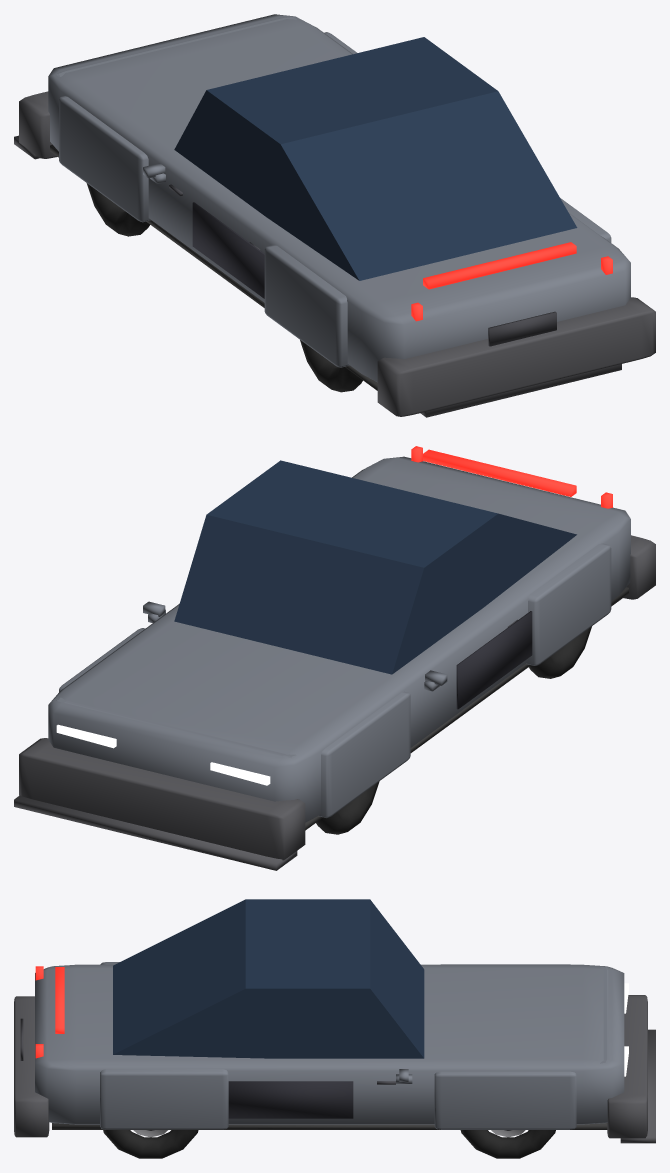
Rendered from liftback.glb.
3 renders of one model, top to bottom at view 1: azimuth 30°, elevation 25°; view 2: azimuth 150°, elevation 25°; view 3: azimuth 270°, elevation 25°, orthographic. The views are drawn at different scales.
Visible parts, largest first — view 1: GlassCanopy, Body, RearBumper, Fender-1F, Fender-1R, Door-1, red_glass.002, FrontBumper, Plate, Diffuser, Tire3, Tire1 (+2 smaller); view 2: Body, GlassCanopy, FrontBumper, Fender-1F, Fender-1R, Door-1, Splitter, red_glass.002, RearBumper, Tire1, Tire3, UnderBody (+1 smaller); view 3: Body, GlassCanopy, Fender+1F, Fender+1R, Door+1, FrontBumper, RearBumper, UnderBody, Tire0, Tire2, Splitter, red_glass.002 (+1 smaller).
Boxes of the visible parts, x1,y1,x2,y2 form: GlassCanopy: (174,37,577,280); Body: (48,14,630,382); RearBumper: (377,297,655,416); Fender-1F: (59,96,151,222); Fender-1R: (264,245,349,367); Door-1: (192,202,264,298); red_glass.002: (423,242,576,289); FrontBumper: (19,91,57,158); Plate: (488,311,556,346); Diffuser: (420,364,621,417); Tire3: (300,340,362,392); Tire1: (86,183,149,236); Body: (48,456,630,822); GlassCanopy: (174,460,576,674); FrontBumper: (19,738,305,860); Fender-1F: (318,691,410,817); Fender-1R: (526,543,611,665); Door-1: (456,611,532,709); Splitter: (14,795,297,870); red_glass.002: (423,449,576,496); RearBumper: (623,535,655,599); Tire1: (316,781,379,834); Tire3: (529,626,591,678); UnderBody: (305,587,628,830); Body: (35,964,624,1124); GlassCanopy: (113,899,424,1058); Fender+1F: (434,1071,576,1129); Fender+1R: (100,1069,228,1129); Door+1: (228,1081,353,1118); FrontBumper: (607,995,647,1138); RearBumper: (14,996,49,1137); UnderBody: (52,1123,607,1129); Tire0: (460,1130,555,1158); Tire2: (103,1130,198,1158); Splitter: (620,1029,655,1143); red_glass.002: (55,967,64,1033).
Bounding box in the file's own units: 2.14 × 1.38 × 4.74.
